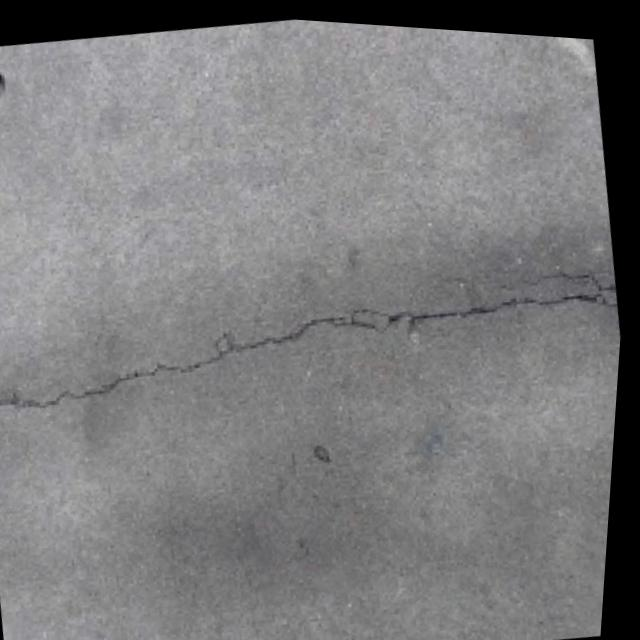Crack: (0, 191, 630, 493)
